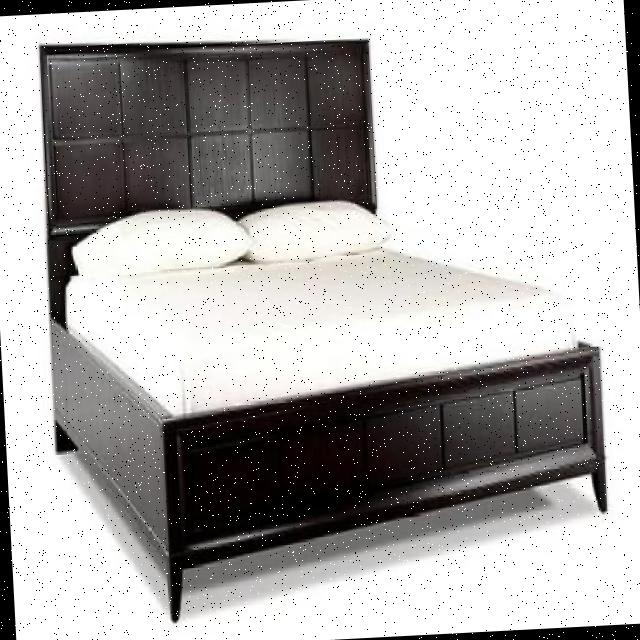Bed: (20, 5, 628, 638)
